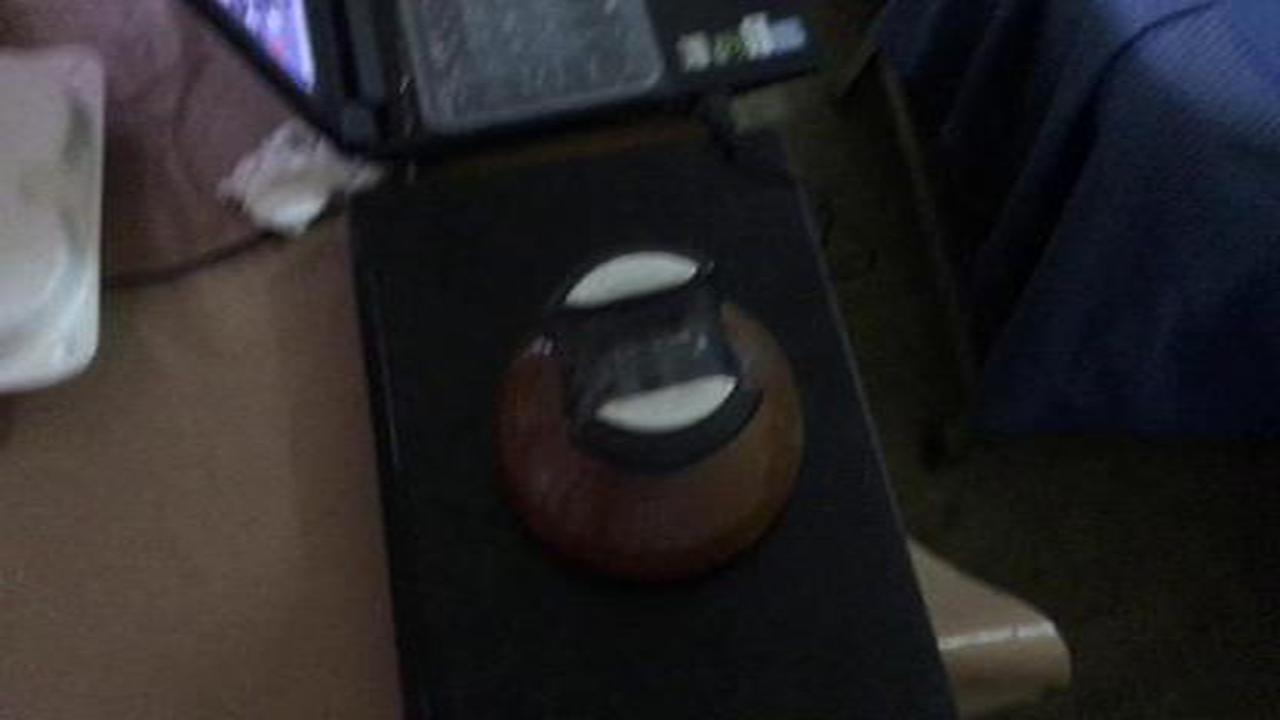insulator_pin: (456, 226, 844, 606)
